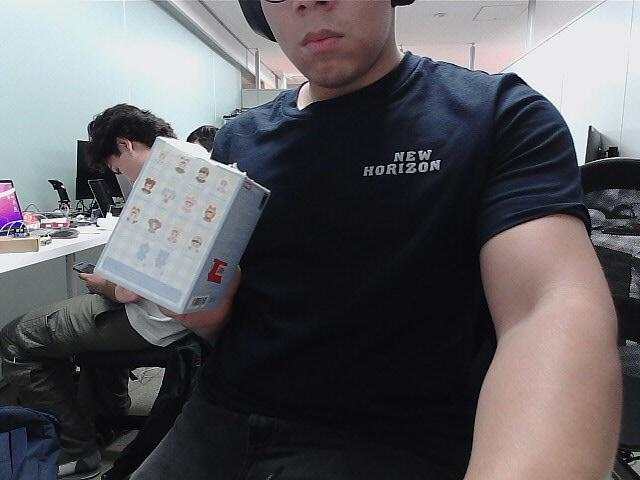Blind_box: (99, 130, 271, 316)
